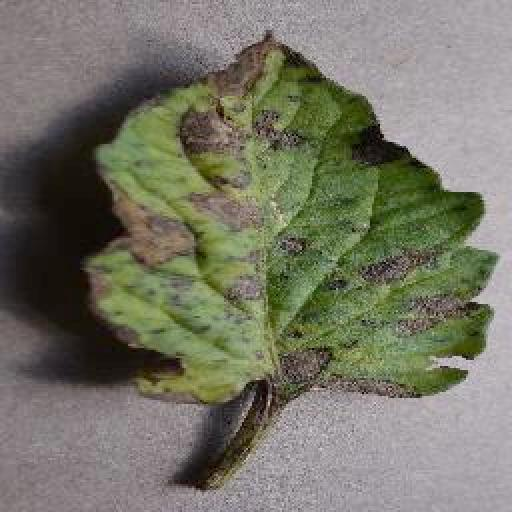disease_tomato: (88, 30, 498, 410)
